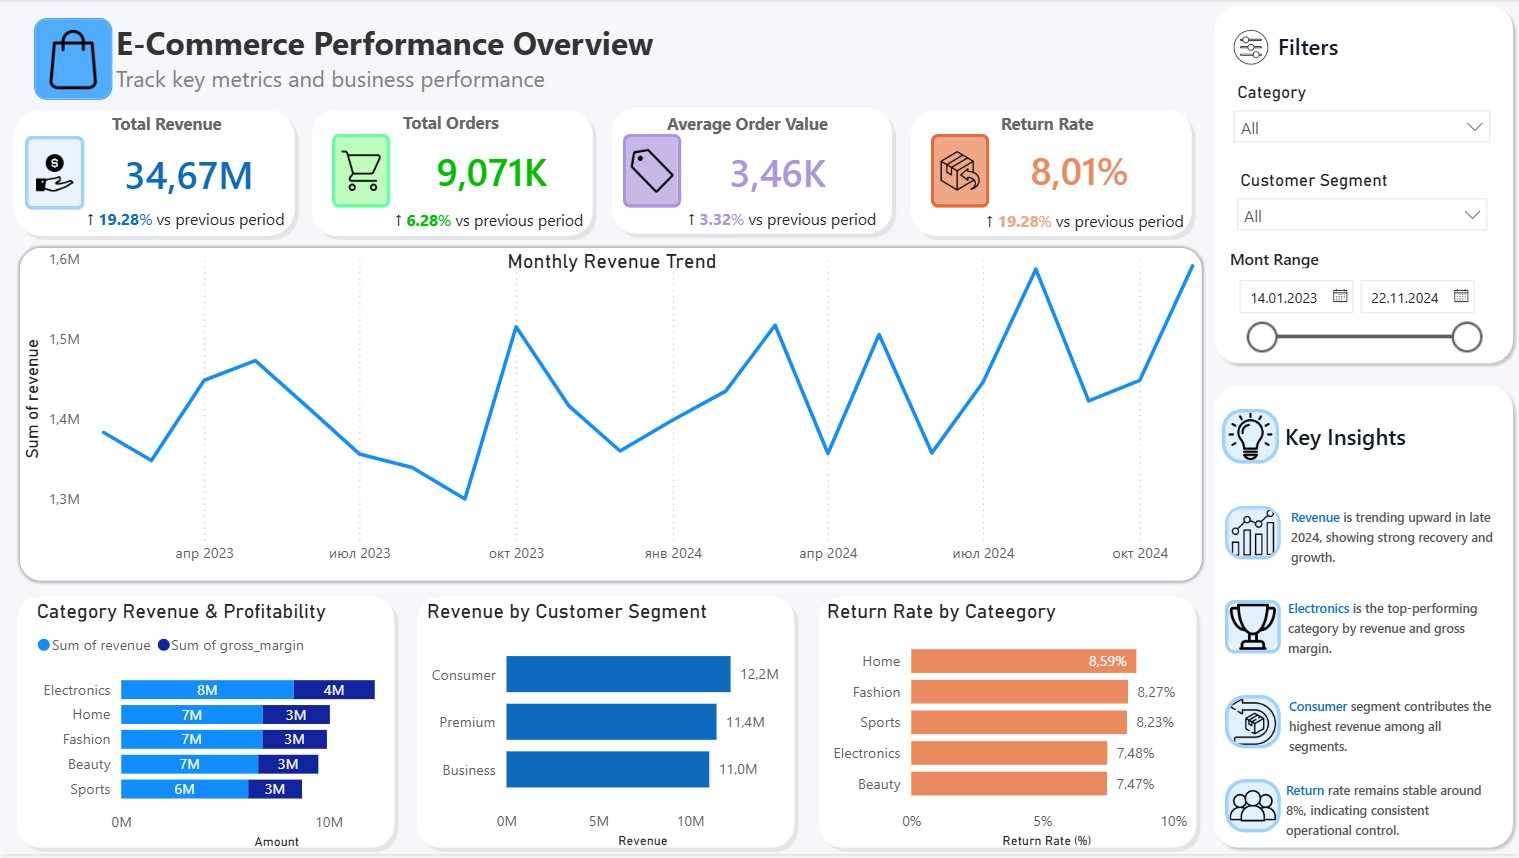

What the dashboard file says about the page in this screenshot:
{"tool":"powerbi","page":{"name":"Страница 1","canvas":[1280,720],"ordinal":0},"visuals":[{"type":"shape","box":[1017.8,0,262.2,312.2],"z":0,"group":"g1"},{"type":"shape","title":"Total Revenue","box":[7.5,88.2,246.4,116.2],"z":1000,"group":"g1"},{"type":"shape","box":[763.1,88.2,246.4,116.2],"z":2000,"group":"g1"},{"type":"image","box":[22.2,115.2,50,61.8],"z":3000,"group":"g1"},{"type":"shape","box":[511,87,246,116],"z":4000,"group":"g1"},{"type":"cardVisual","title":"Total Reveenue","fields":{"Data":["Sum(vw_customer_segment_revenue.revenue)"]},"box":[76.3,99.4,177.6,93.5],"z":5000,"group":"g1"},{"type":"image","box":[785.1,113.5,49.4,62.4],"z":6000,"group":"g1"},{"type":"shape","box":[258.3,88.2,246.4,116.2],"z":7000,"group":"g1"},{"type":"image","box":[525.1,114.1,49.4,61.8],"z":8000,"group":"g1"},{"type":"cardVisual","title":"Total Reveenue","fields":{"Data":["Avg(vw_return_rate_by_category.return_rate)"]},"box":[839.5,96.1,177.5,93.5],"z":9000,"group":"g1"},{"type":"image","box":[280.4,114.1,49.4,62.4],"z":10000,"group":"g1"},{"type":"cardVisual","title":"Total Reveenue","fields":{"Data":["Avg(vw_monthly_revenue.average_order_value)"]},"box":[585.7,97.6,177.6,93.5],"z":11000,"group":"g1"},{"type":"cardVisual","title":"Total Reveenue","fields":{"Data":["Sum(vw_monthly_revenue.total_orders)"]},"box":[328,97,187,93],"z":12000,"group":"g1"},{"type":"textbox","box":[826.3,172.3,203.5,37.6],"z":13000,"group":"g1"},{"type":"shape","title":"Monthly Revenue Trend","box":[18,210,995,280],"z":14000,"group":"g1"},{"type":"textbox","box":[567.1,170.8,196.2,33.8],"z":15000,"group":"g1"},{"type":"textbox","box":[320.5,171.8,195.7,33.3],"z":16000,"group":"g1"},{"type":"textbox","box":[61.6,171.1,185.9,28.2],"z":17000,"group":"g1"},{"type":"lineChart","fields":{"Y":["Sum(vw_monthly_revenue.revenue)"],"Category":["vw_monthly_revenue.order_month.Variation.Иерархия дат.Год","vw_monthly_revenue.order_month.Variation.Иерархия дат.Квартал","vw_monthly_revenue.order_month.Variation.Иерархия дат.Месяц","vw_monthly_revenue.order_month.Variation.Иерархия дат.День"]},"box":[15,205,1019,280],"z":18000,"group":"g1"},{"type":"shape","box":[10,498,328,222],"z":19000,"group":"g1"},{"type":"textbox","box":[93.8,13.4,1019.4,74.3],"z":20000,"group":"g1"},{"type":"image","box":[29,16,66,69],"z":21000,"group":"g1"},{"type":"textbox","box":[90,90,215,48],"z":22000,"group":"g1"},{"type":"textbox","box":[335,89,215,48],"z":23000,"group":"g1"},{"type":"textbox","box":[557,90,215,48],"z":24000,"group":"g1"},{"type":"textbox","box":[839,90,215,48],"z":25000,"group":"g1"},{"type":"barChart","title":"Category Revenue & Profitability","fields":{"Category":["vw_category_performance.category"],"Y":["Sum(vw_category_performance.revenue)","Sum(vw_category_performance.gross_margin)"]},"box":[27,505,355,215],"z":26000,"group":"g1"},{"type":"shape","box":[347,498,328,222],"z":27000,"group":"g1"},{"type":"shape","box":[685,498,328,222],"z":28000,"group":"g1"},{"type":"barChart","title":"Revenue by Customer Segment","fields":{"Category":["vw_customer_segment_revenue.customer_segment"],"Y":["Sum(vw_customer_segment_revenue.revenue)"]},"box":[355.5,505.6,318.9,214.4],"z":29000,"group":"g1"},{"type":"barChart","title":"Return Rate by Cateegory","fields":{"Category":["vw_return_rate_by_category.category"],"Y":["Avg(vw_return_rate_by_category.return_rate)"]},"box":[692.2,505.6,321.1,214.4],"z":30000,"group":"g1"},{"type":"slicer","fields":{"Values":["vw_category_performance.category"]},"box":[1030,65.6,235.6,65.6],"z":31000,"group":"g1"},{"type":"textbox","box":[1072.2,22.2,63.3,54.4],"z":32000,"group":"g1"},{"type":"slicer","fields":{"Values":["vw_customer_segment_revenue.customer_segment"]},"box":[1032.2,140,231.1,74.4],"z":33000,"group":"g1"},{"type":"slicer","title":"Mont Range","fields":{"Values":["vw_monthly_revenue.order_month"]},"box":[1031.1,210,227.8,98.9],"z":34000,"group":"g1"},{"type":"image","box":[1035.5,15.6,36.7,51.1],"z":35000,"group":"g1"},{"type":"shape","box":[1017.8,320,262.2,400],"z":36000,"group":"g1"},{"type":"textbox","box":[1077.8,350,185.6,56.7],"z":37000,"group":"g1"},{"type":"image","box":[1030,345,47.5,45.8],"z":38000,"group":"g1"},{"type":"image","box":[1032,427,47,45],"z":39000,"group":"g1"},{"type":"image","box":[1032,586,47,45],"z":40000,"group":"g1"},{"type":"image","box":[1032,506,47,45],"z":41000,"group":"g1"},{"type":"image","box":[1032,657,47,45],"z":42000,"group":"g1"},{"type":"textbox","box":[1083,421,183,69],"z":43000,"group":"g1"},{"type":"textbox","box":[1080,498,185,67],"z":44000,"group":"g1"},{"type":"textbox","box":[1081,580,185,63],"z":45000,"group":"g1"},{"type":"textbox","box":[1079,651,185,69],"z":46000,"group":"g1"},{"type":"group","id":"g1","title":"Group 1","box":[7.5,0,1272.5,720],"z":46001}]}

Visuals, with their boxes in screenshot pixels (x1, y1, x2, y2), scaled from the page's 1280x720 canvas onto the 1519x858 screenshot:
shape: {"x1": 1208, "y1": 0, "x2": 1518, "y2": 372}
"Total Revenue" shape: {"x1": 9, "y1": 105, "x2": 301, "y2": 244}
shape: {"x1": 906, "y1": 105, "x2": 1198, "y2": 244}
image: {"x1": 26, "y1": 137, "x2": 86, "y2": 211}
shape: {"x1": 606, "y1": 104, "x2": 898, "y2": 242}
"Total Reveenue" cardVisual: {"x1": 91, "y1": 118, "x2": 301, "y2": 230}
image: {"x1": 932, "y1": 135, "x2": 990, "y2": 210}
shape: {"x1": 307, "y1": 105, "x2": 599, "y2": 244}
image: {"x1": 623, "y1": 136, "x2": 682, "y2": 210}
"Total Reveenue" cardVisual: {"x1": 996, "y1": 115, "x2": 1207, "y2": 226}
image: {"x1": 333, "y1": 136, "x2": 391, "y2": 210}
"Total Reveenue" cardVisual: {"x1": 695, "y1": 116, "x2": 906, "y2": 228}
"Total Reveenue" cardVisual: {"x1": 389, "y1": 116, "x2": 611, "y2": 226}
textbox: {"x1": 981, "y1": 205, "x2": 1222, "y2": 250}
"Monthly Revenue Trend" shape: {"x1": 21, "y1": 250, "x2": 1202, "y2": 584}
textbox: {"x1": 673, "y1": 204, "x2": 906, "y2": 244}
textbox: {"x1": 380, "y1": 205, "x2": 613, "y2": 244}
textbox: {"x1": 73, "y1": 204, "x2": 294, "y2": 237}
lineChart - Sum(vw_monthly_revenue.revenue) x vw_monthly_revenue.order_month.Variation.Иерархия дат.Год: {"x1": 18, "y1": 244, "x2": 1227, "y2": 578}
shape: {"x1": 12, "y1": 593, "x2": 401, "y2": 857}
textbox: {"x1": 111, "y1": 16, "x2": 1321, "y2": 105}
image: {"x1": 34, "y1": 19, "x2": 113, "y2": 101}
textbox: {"x1": 107, "y1": 107, "x2": 362, "y2": 164}
textbox: {"x1": 398, "y1": 106, "x2": 653, "y2": 163}
textbox: {"x1": 661, "y1": 107, "x2": 916, "y2": 164}
textbox: {"x1": 996, "y1": 107, "x2": 1251, "y2": 164}
"Category Revenue & Profitability" barChart: {"x1": 32, "y1": 602, "x2": 453, "y2": 857}
shape: {"x1": 412, "y1": 593, "x2": 801, "y2": 857}
shape: {"x1": 813, "y1": 593, "x2": 1202, "y2": 857}
"Revenue by Customer Segment" barChart: {"x1": 422, "y1": 603, "x2": 800, "y2": 857}
"Return Rate by Cateegory" barChart: {"x1": 821, "y1": 603, "x2": 1203, "y2": 857}
slicer - vw_category_performance.category: {"x1": 1222, "y1": 78, "x2": 1502, "y2": 156}
textbox: {"x1": 1272, "y1": 26, "x2": 1348, "y2": 91}
slicer - vw_customer_segment_revenue.customer_segment: {"x1": 1225, "y1": 167, "x2": 1499, "y2": 255}
"Mont Range" slicer: {"x1": 1224, "y1": 250, "x2": 1494, "y2": 368}
image: {"x1": 1229, "y1": 19, "x2": 1272, "y2": 79}
shape: {"x1": 1208, "y1": 381, "x2": 1518, "y2": 857}
textbox: {"x1": 1279, "y1": 417, "x2": 1499, "y2": 485}
image: {"x1": 1222, "y1": 411, "x2": 1279, "y2": 466}
image: {"x1": 1225, "y1": 509, "x2": 1280, "y2": 562}
image: {"x1": 1225, "y1": 698, "x2": 1280, "y2": 752}
image: {"x1": 1225, "y1": 603, "x2": 1280, "y2": 657}
image: {"x1": 1225, "y1": 783, "x2": 1280, "y2": 837}
textbox: {"x1": 1285, "y1": 502, "x2": 1502, "y2": 584}
textbox: {"x1": 1282, "y1": 593, "x2": 1501, "y2": 673}
textbox: {"x1": 1283, "y1": 691, "x2": 1502, "y2": 766}
textbox: {"x1": 1280, "y1": 776, "x2": 1500, "y2": 857}
"Group 1" group: {"x1": 9, "y1": 0, "x2": 1518, "y2": 857}
